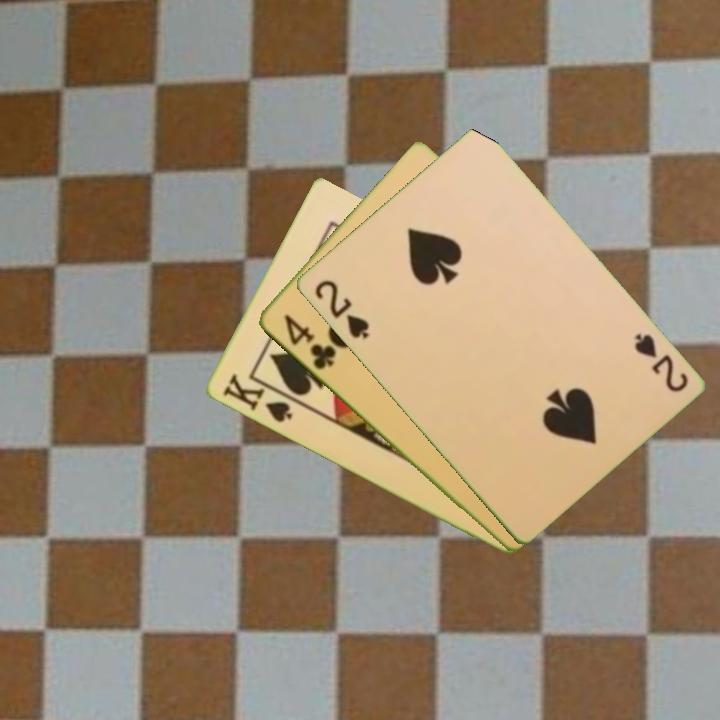2s: (310, 276, 372, 342), (630, 329, 691, 395)
4c: (280, 310, 339, 373)
Ks: (218, 370, 295, 426)
